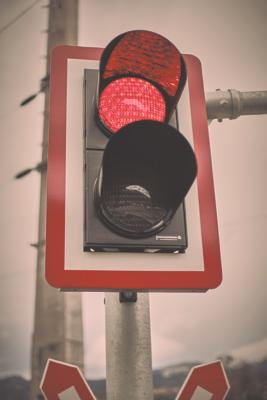International Road Signal Light: (45, 44, 221, 290)
